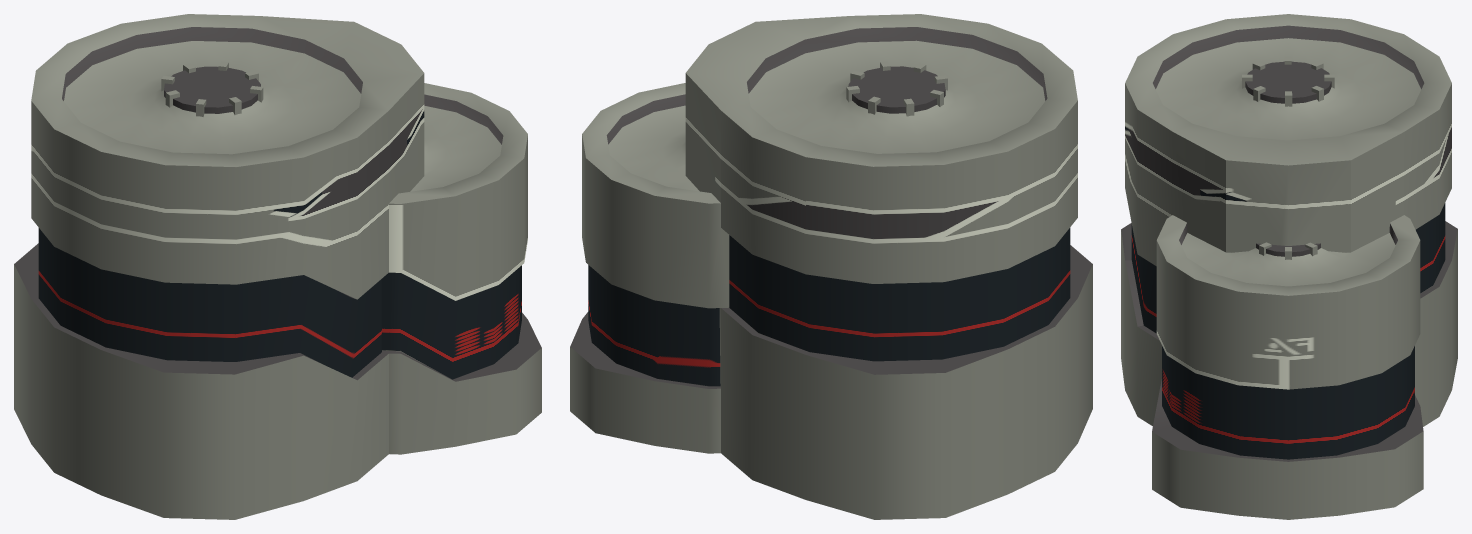
File: storeroom.fbx
3 views of the same model, side by side, from view 1: azimuth 30°, elevation 25°; view 2: azimuth 150°, elevation 25°; view 3: azimuth 270°, elevation 25° (orthographic). The views are drawn at different scales.
Parts seen in each view (by area): view 1: pCylinder10; view 2: pCylinder10; view 3: pCylinder10.
Boxes of the visible parts, x1,y1,x2,y2 form: pCylinder10: (14, 14, 541, 519); pCylinder10: (570, 14, 1092, 519); pCylinder10: (1121, 14, 1457, 519).
Size of the model in its own units: 17.97 by 13.24 by 12.86.
